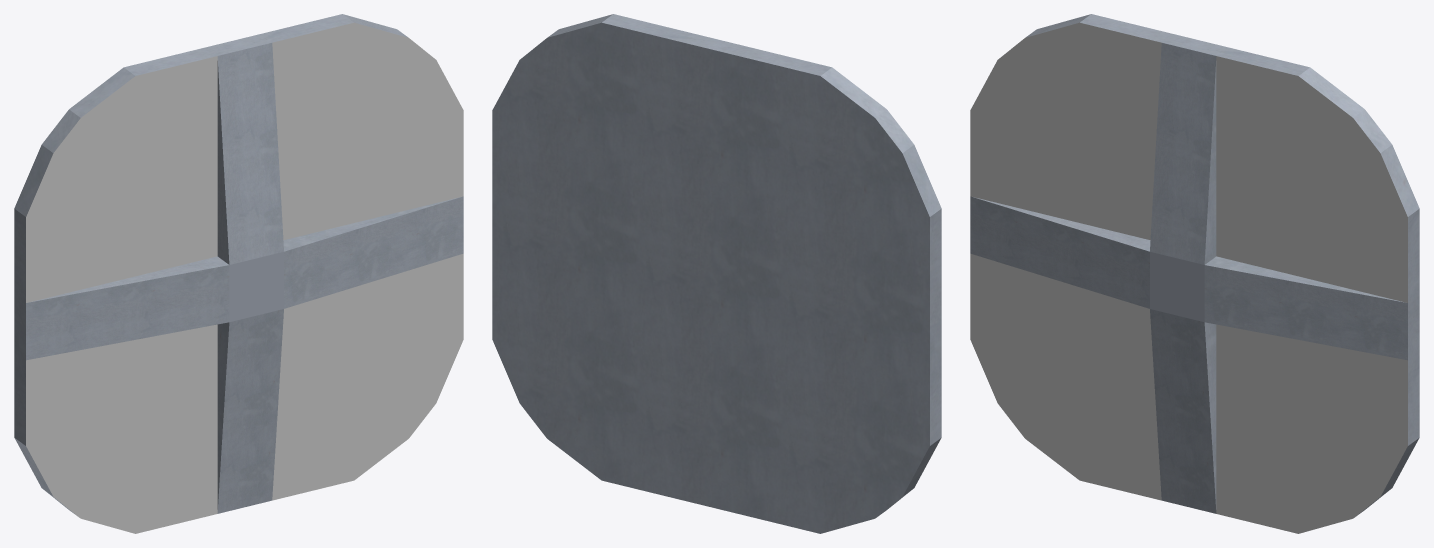
The model's file is door.dae.
3 renders of one model, left to right at view 1: azimuth 30°, elevation 25°; view 2: azimuth 150°, elevation 25°; view 3: azimuth 330°, elevation 25°, orthographic.
Parts seen in each view (by area): view 1: door; view 2: door; view 3: door.
Boxes of the visible parts, left/top/right/bottom form: door: left=14, top=14, right=463, bottom=533; door: left=492, top=14, right=941, bottom=533; door: left=970, top=14, right=1419, bottom=533.
Size of the model in its own units: 64 by 6 by 64.
2 materials, 1 textured.
